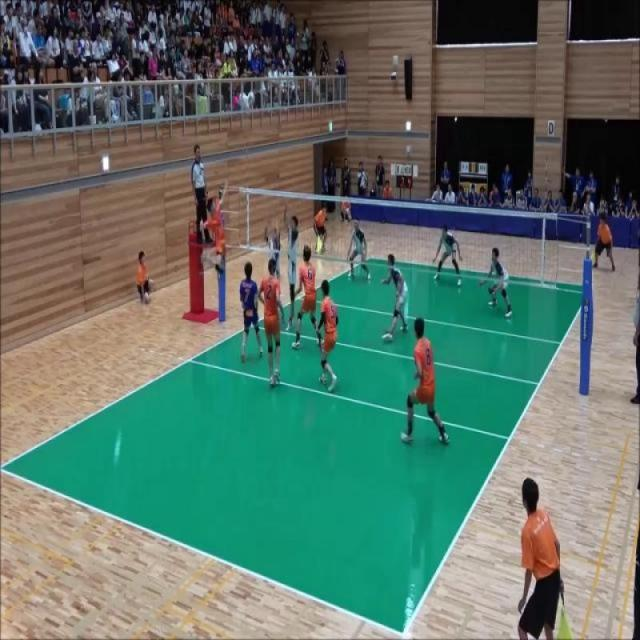volleyball: (248, 90, 255, 106), (346, 208, 350, 215)
